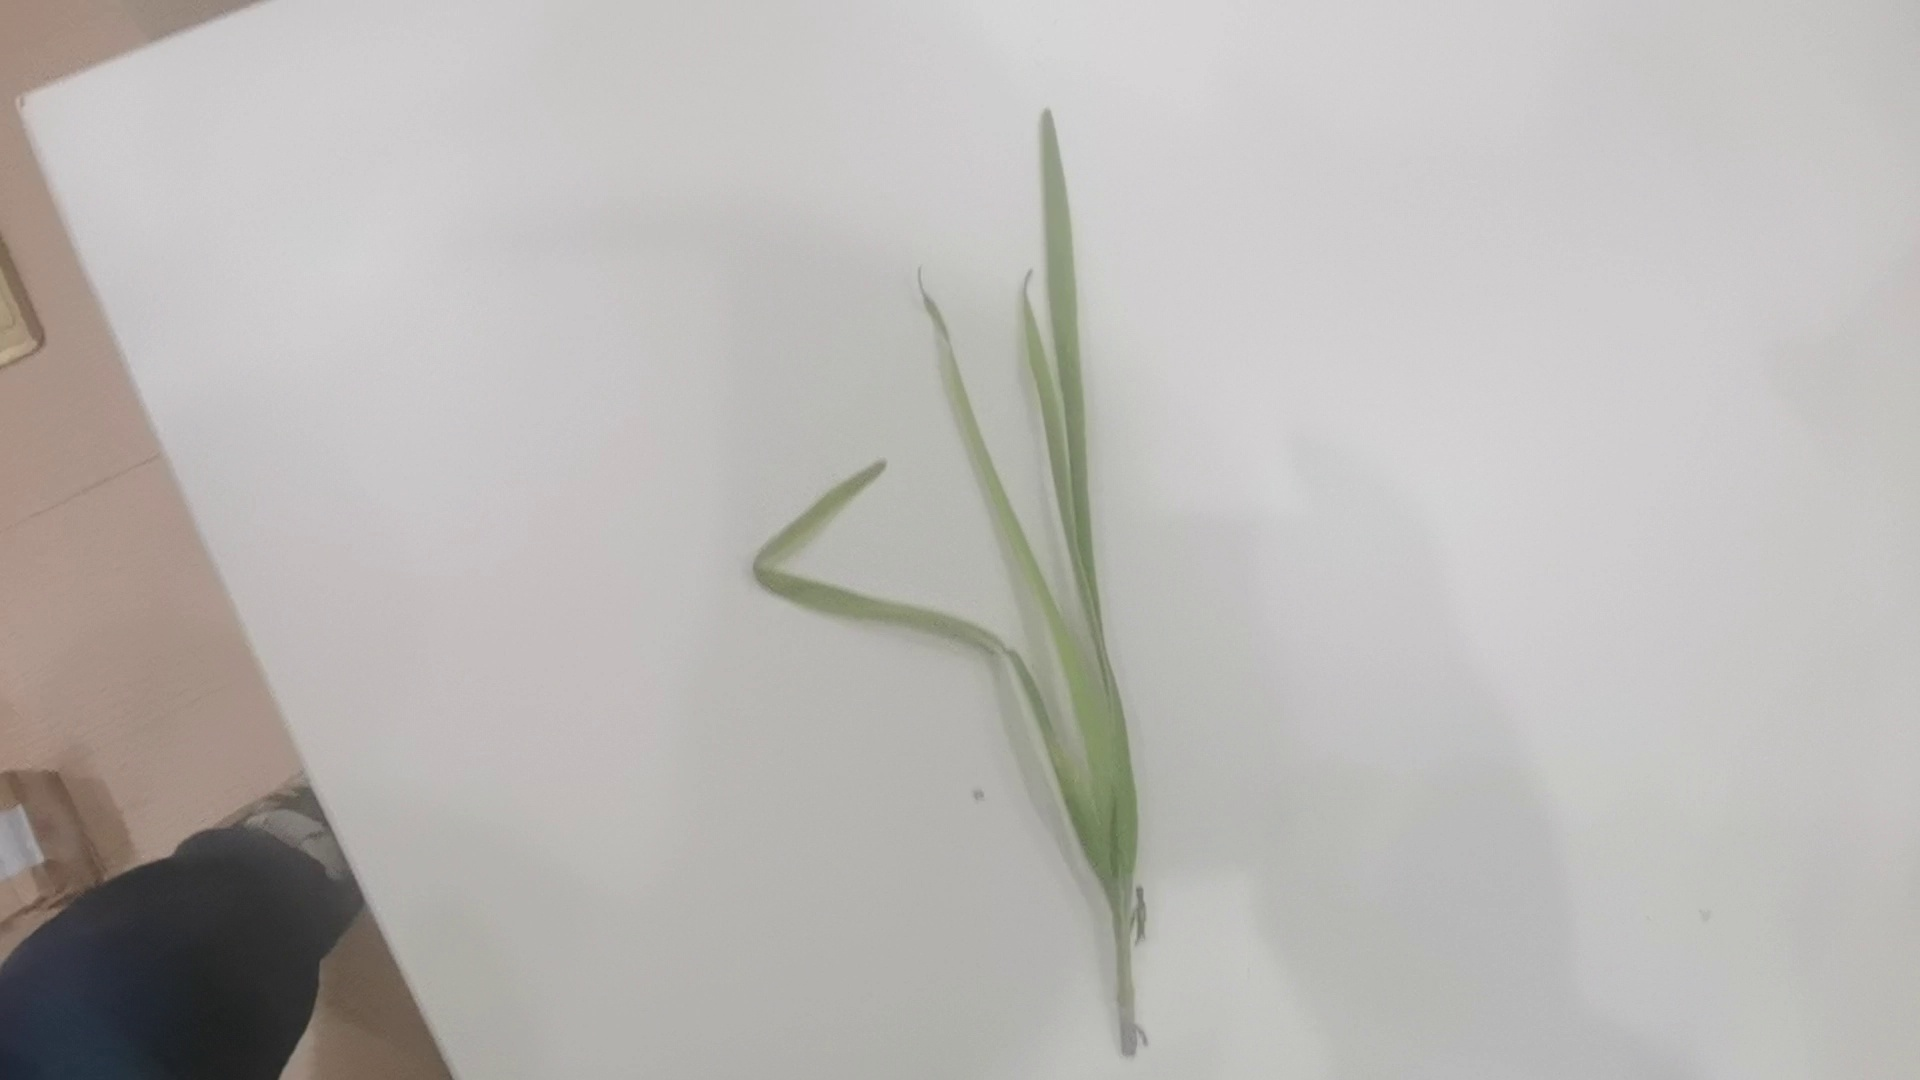chives: (735, 105, 1179, 1062)
